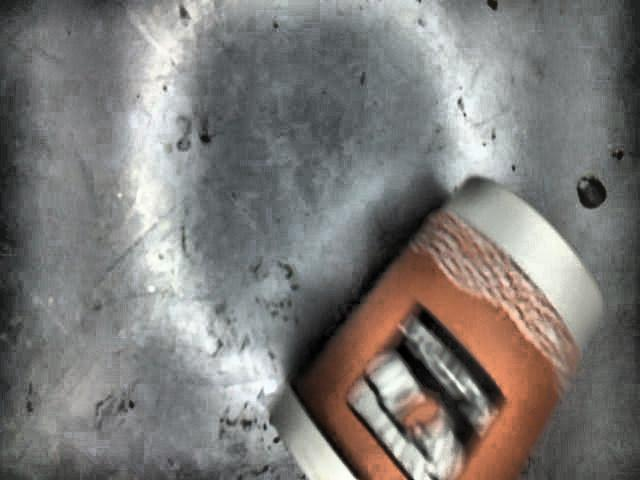Paper: (270, 178, 607, 480)
